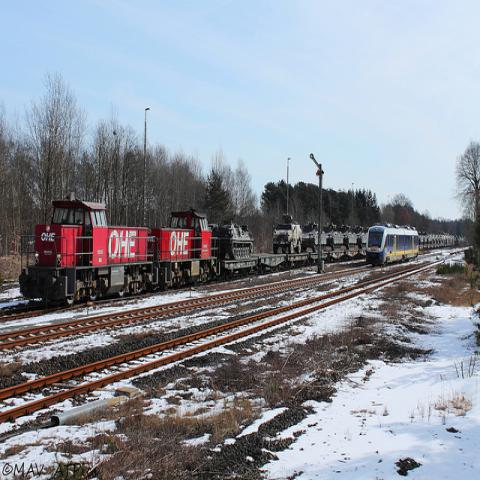truck: (273, 213, 302, 254)
